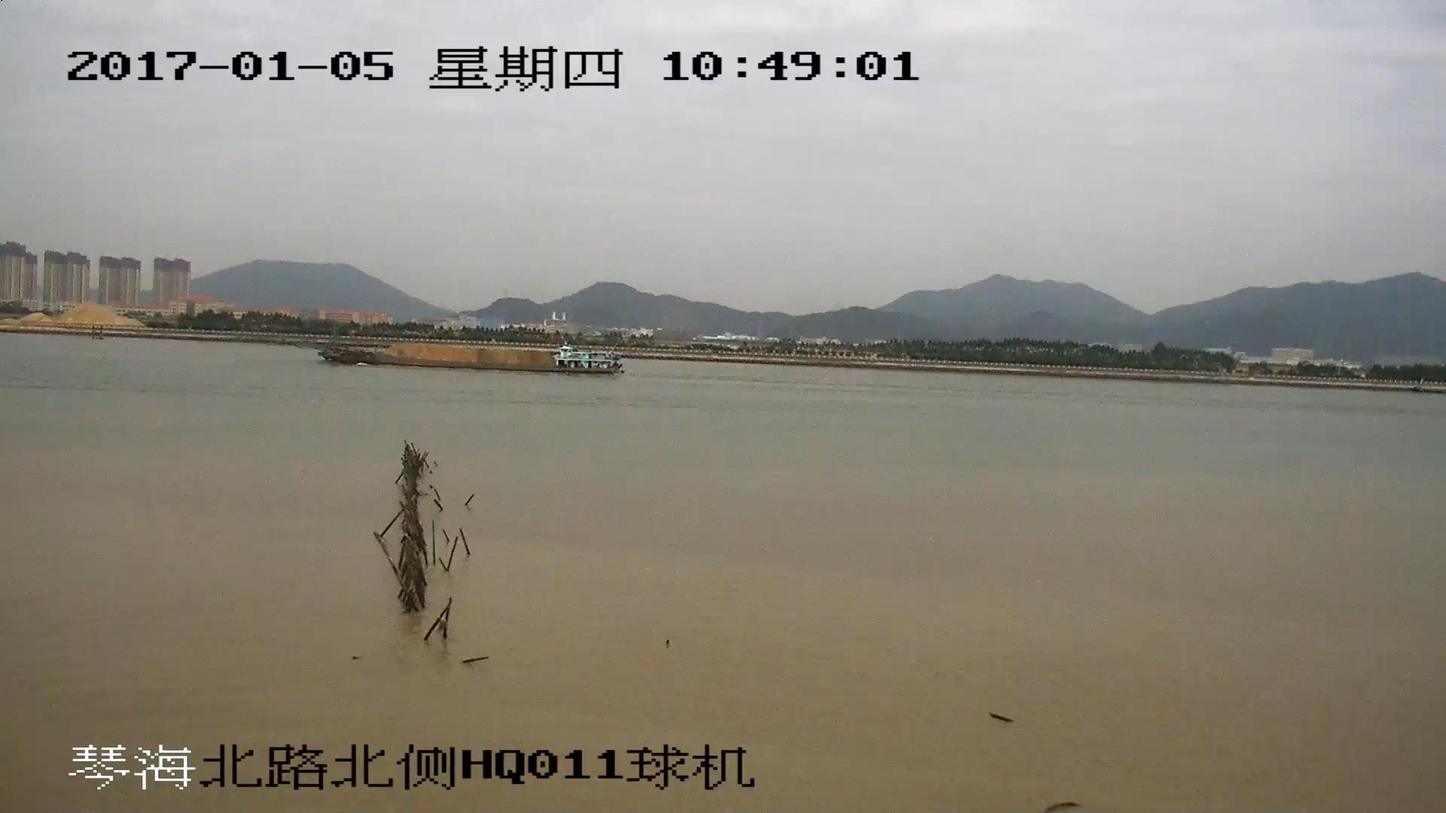ore carrier: (322, 320, 617, 371)
